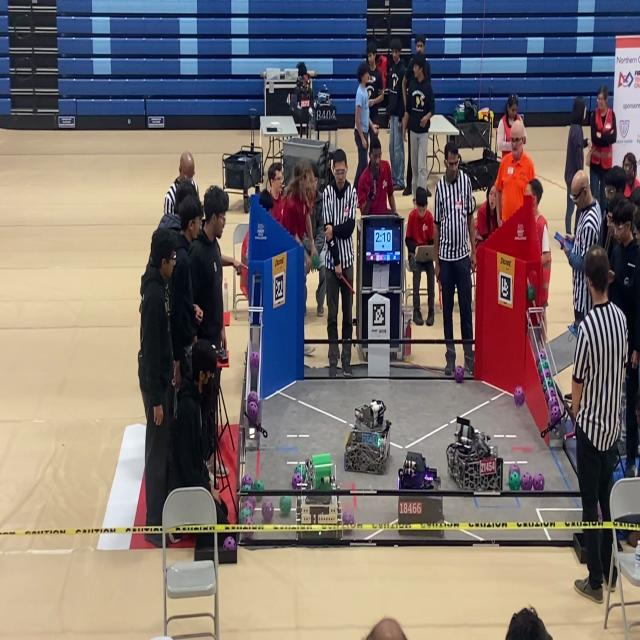artifact_green: (279, 496, 292, 516), (509, 471, 521, 491), (242, 498, 254, 515), (239, 508, 252, 523), (294, 464, 305, 481), (527, 284, 535, 302), (543, 378, 554, 391), (253, 479, 264, 491), (509, 463, 520, 475), (538, 359, 548, 372), (312, 254, 319, 269), (242, 475, 252, 485), (542, 368, 552, 378), (242, 516, 253, 525), (241, 485, 251, 493), (241, 485, 251, 492), (544, 360, 550, 370)
artifact_purple: (261, 500, 273, 523), (550, 405, 561, 426), (247, 402, 258, 422), (514, 386, 524, 407), (549, 395, 561, 412), (242, 497, 254, 514), (521, 473, 532, 491), (533, 473, 544, 491), (223, 536, 236, 551), (250, 351, 259, 371), (292, 472, 302, 489), (239, 508, 251, 522), (545, 389, 553, 409), (540, 369, 551, 383), (343, 512, 354, 526), (241, 475, 252, 488), (247, 496, 257, 510), (455, 366, 463, 383), (247, 391, 258, 403), (509, 463, 520, 475), (543, 378, 554, 389), (536, 350, 546, 362), (597, 504, 603, 523), (242, 517, 253, 525), (544, 368, 552, 378), (539, 370, 545, 383), (534, 350, 539, 364)
